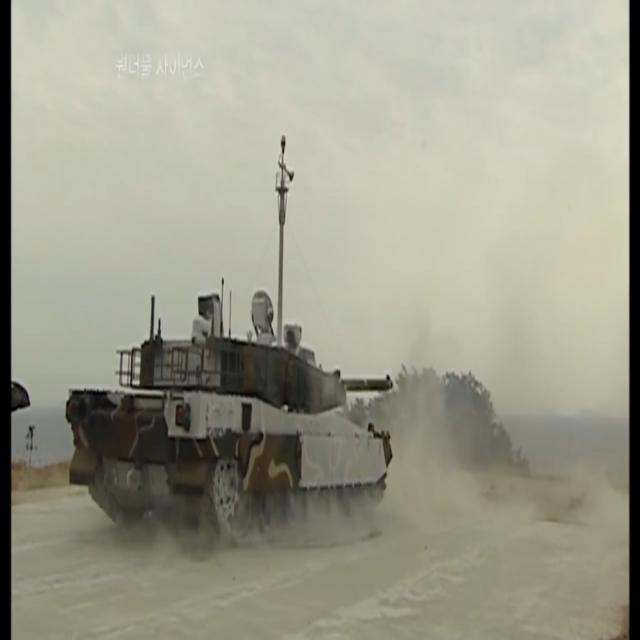korea tank: (66, 287, 396, 554)
